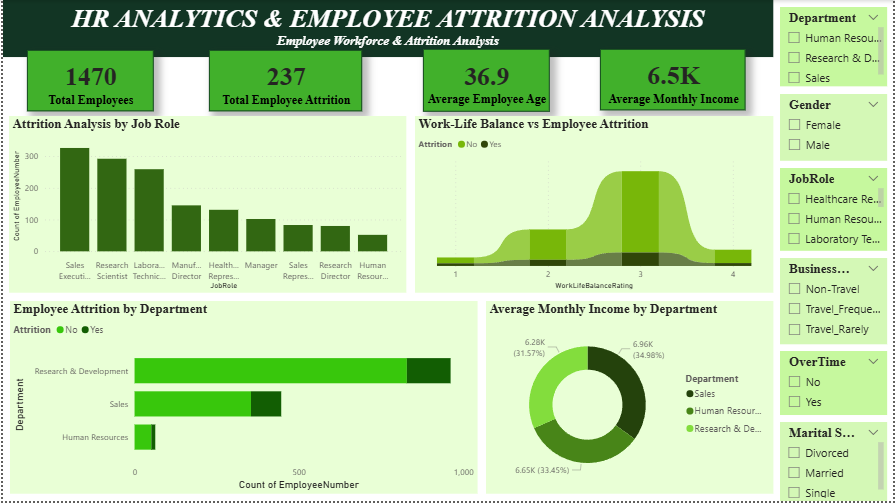

The dashboard page shown, as its layout file describes it:
{"tool":"powerbi","page":{"name":"HR Analytics & Employee Attrition Analysis ","canvas":[1280,720],"ordinal":5},"visuals":[{"type":"textbox","box":[0,0,1106.6,81.9],"z":0},{"type":"card","fields":{"Values":["Count(InnovateX.EmployeeNumber)"]},"box":[34.1,71.4,181.5,88.4],"z":1000},{"type":"card","fields":{"Values":["Sum(InnovateX.AttritionCount)"]},"box":[296.3,71.4,220.3,88.4],"z":2000},{"type":"card","fields":{"Values":["Avg(InnovateX.Age)"]},"box":[603.5,69.8,181.5,90],"z":3000},{"type":"card","fields":{"Values":["Avg(InnovateX.MonthlyIncome)"]},"box":[858,69.8,209.5,88.4],"z":4000},{"type":"barChart","title":"Employee Attrition by Department","fields":{"Category":["InnovateX.Department"],"Y":["Count(InnovateX.EmployeeNumber)"],"Series":["InnovateX.Attrition"]},"box":[10.5,432.2,671.6,277.1],"z":5000},{"type":"columnChart","title":"Attrition Analysis by Job Role","fields":{"Category":["InnovateX.JobRole"],"Y":["CountNonNull(InnovateX.EmployeeNumber)"]},"box":[9,167.2,570.7,254.5],"z":6000},{"type":"donutChart","title":"Average Monthly Income by Department","fields":{"Category":["InnovateX.Department"],"Y":["Avg(InnovateX.MonthlyIncome)"]},"box":[694.2,432.2,412.6,277.1],"z":7000},{"type":"ribbonChart","title":"Work-Life Balance vs Employee Attrition ","fields":{"Category":["InnovateX.WorkLifeBalanceRating"],"Y":["CountNonNull(InnovateX.EmployeeNumber)"],"Series":["InnovateX.Attrition"]},"box":[591.8,167.2,515,254.5],"z":8000},{"type":"slicer","fields":{"Values":["InnovateX.Department"]},"box":[1116.6,10.1,153.8,113.5],"z":9000},{"type":"slicer","fields":{"Values":["InnovateX.JobRole"]},"box":[1116.6,241.4,153.8,119.3],"z":10000},{"type":"slicer","fields":{"Values":["InnovateX.Gender"]},"box":[1116.6,135.1,153.8,96.3],"z":11000},{"type":"slicer","fields":{"Values":["InnovateX.BusinessTravel"]},"box":[1116.6,370.8,153.8,123.6],"z":12000},{"type":"slicer","fields":{"Values":["InnovateX.OverTime"]},"box":[1116.6,504.4,153.8,92],"z":13000},{"type":"slicer","fields":{"Values":["InnovateX.MaritalStatus"]},"box":[1116.6,606.5,153.8,113.5],"z":14000}]}

Visuals, with their boxes in screenshot pixels (x1, y1, x2, y2), scaled from the page's 1280x720 canvas onto the 895x504 screenshot:
textbox: <box>0,0,774,57</box>
card - Count(InnovateX.EmployeeNumber): <box>24,50,151,112</box>
card - Sum(InnovateX.AttritionCount): <box>207,50,361,112</box>
card - Avg(InnovateX.Age): <box>422,49,549,112</box>
card - Avg(InnovateX.MonthlyIncome): <box>600,49,746,111</box>
"Employee Attrition by Department" barChart: <box>7,303,477,497</box>
"Attrition Analysis by Job Role" columnChart: <box>6,117,405,295</box>
"Average Monthly Income by Department" donutChart: <box>485,303,774,497</box>
"Work-Life Balance vs Employee Attrition " ribbonChart: <box>414,117,774,295</box>
slicer - InnovateX.Department: <box>781,7,888,87</box>
slicer - InnovateX.JobRole: <box>781,169,888,252</box>
slicer - InnovateX.Gender: <box>781,95,888,162</box>
slicer - InnovateX.BusinessTravel: <box>781,260,888,346</box>
slicer - InnovateX.OverTime: <box>781,353,888,417</box>
slicer - InnovateX.MaritalStatus: <box>781,425,888,503</box>
